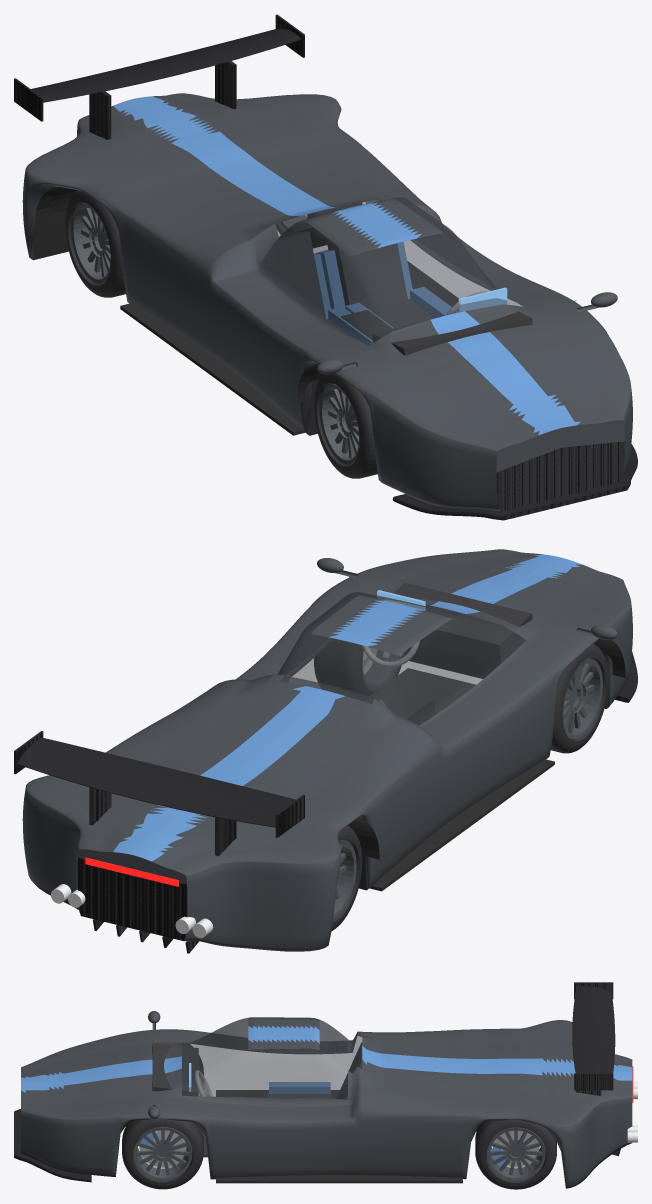
File: bugatti-bolide.glb
The picture shows the model from 3 angles, top to bottom: view 1: azimuth 30°, elevation 25°; view 2: azimuth 150°, elevation 25°; view 3: azimuth 270°, elevation 25°; orthographic projection. The views are drawn at different scales.
Visible parts, largest first — view 1: Body_PrimaryPaint, Glass_Windows, Carbon_Exterior, Body_SecondaryPaint, Interior_Seats, WheelWells, Interior_SeatBolsters, Tire_FR, Rim_FR, Tire_RR, Rim_RR, Underbody (+3 smaller); view 2: Body_PrimaryPaint, Carbon_Exterior, Glass_Windows, Body_SecondaryPaint, Interior_Dashboard, WheelWells, Rim_FR, Tire_FL, Interior_Tub, Tire_FR, Underbody, Rim_RR (+5 smaller); view 3: Body_PrimaryPaint, Glass_Windows, Body_SecondaryPaint, Carbon_Exterior, WheelWells, Tire_FL, Tire_RL, Rim_FL, Rim_RL, Interior_Dashboard, Interior_SeatBolsters, Underbody (+4 smaller).
Boxes of the visible parts, bbox=[...] form: Body_PrimaryPaint: bbox=[22, 93, 632, 511]; Glass_Windows: bbox=[259, 197, 522, 345]; Carbon_Exterior: bbox=[14, 14, 637, 520]; Body_SecondaryPaint: bbox=[113, 96, 580, 435]; Interior_Seats: bbox=[259, 231, 434, 336]; WheelWells: bbox=[48, 187, 576, 435]; Interior_SeatBolsters: bbox=[314, 242, 458, 345]; Tire_FR: bbox=[313, 373, 377, 478]; Rim_FR: bbox=[319, 383, 359, 464]; Tire_RR: bbox=[65, 190, 125, 297]; Rim_RR: bbox=[71, 203, 110, 283]; Underbody: bbox=[33, 187, 318, 435]; Body_PrimaryPaint: bbox=[22, 549, 632, 951]; Carbon_Exterior: bbox=[14, 651, 637, 953]; Glass_Windows: bbox=[278, 592, 525, 725]; Body_SecondaryPaint: bbox=[113, 554, 581, 861]; Interior_Dashboard: bbox=[393, 582, 532, 664]; WheelWells: bbox=[348, 576, 625, 891]; Rim_FR: bbox=[562, 658, 602, 739]; Tire_FL: bbox=[313, 638, 405, 696]; Interior_Tub: bbox=[369, 668, 475, 714]; Tire_FR: bbox=[550, 643, 608, 753]; Underbody: bbox=[31, 645, 606, 909]; Rim_RR: bbox=[333, 839, 356, 919]; Body_PrimaryPaint: bbox=[21, 1011, 632, 1187]; Glass_Windows: bbox=[182, 1018, 362, 1099]; Body_SecondaryPaint: bbox=[21, 1026, 632, 1092]; Carbon_Exterior: bbox=[14, 982, 620, 1182]; WheelWells: bbox=[216, 1090, 462, 1183]; Tire_FL: bbox=[122, 1119, 203, 1189]; Tire_RL: bbox=[475, 1119, 556, 1189]; Rim_FL: bbox=[133, 1127, 192, 1180]; Rim_RL: bbox=[486, 1127, 545, 1181]; Interior_Dashboard: bbox=[152, 1042, 198, 1096]; Interior_SeatBolsters: bbox=[269, 1082, 330, 1093]; Underbody: bbox=[21, 1119, 631, 1188].
Size of the model in its own units: 2 by 1.04 by 4.86.
Materials: 17 (2 with a texture image).
